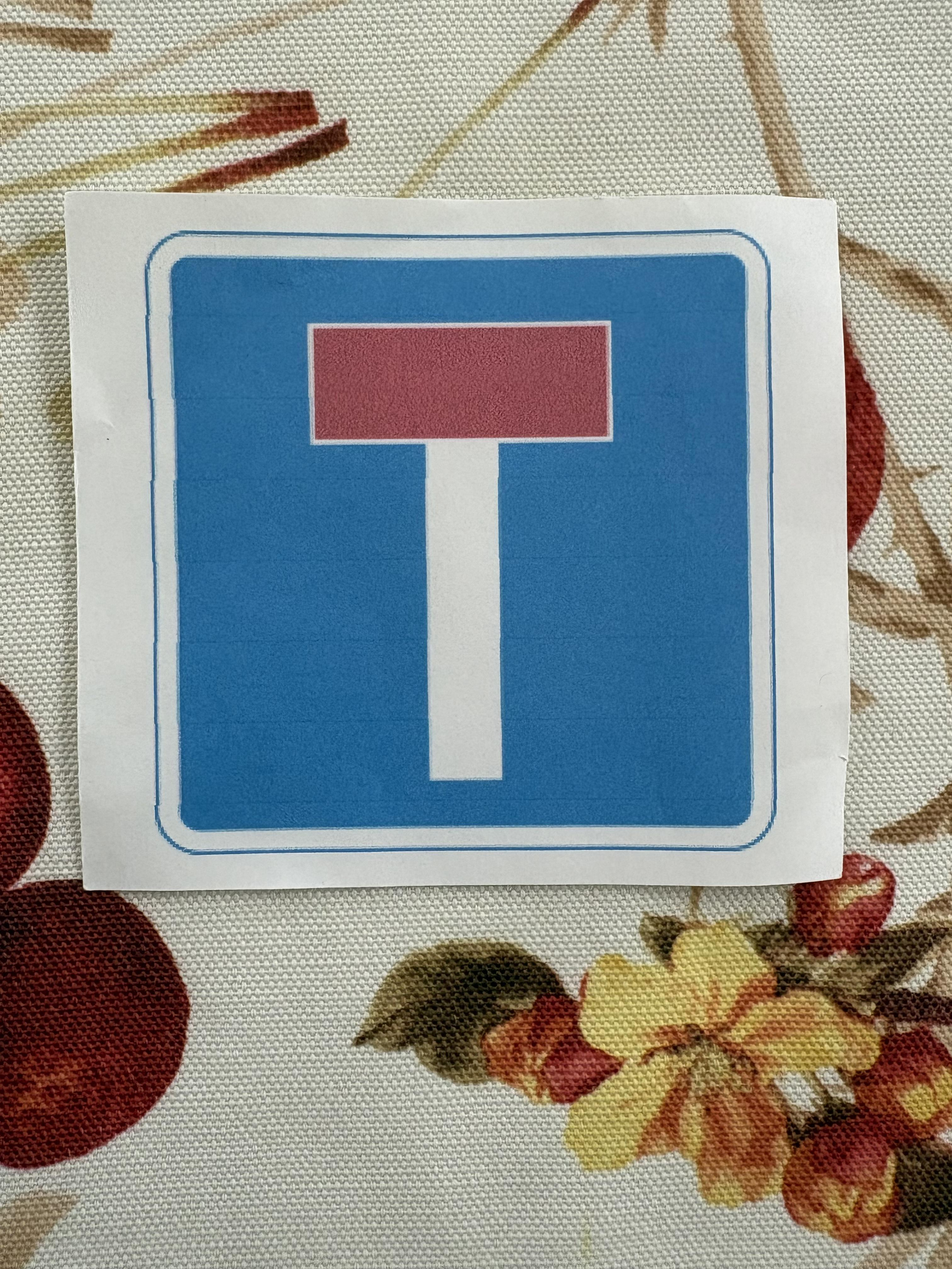Dead End: (63, 189, 839, 878)
